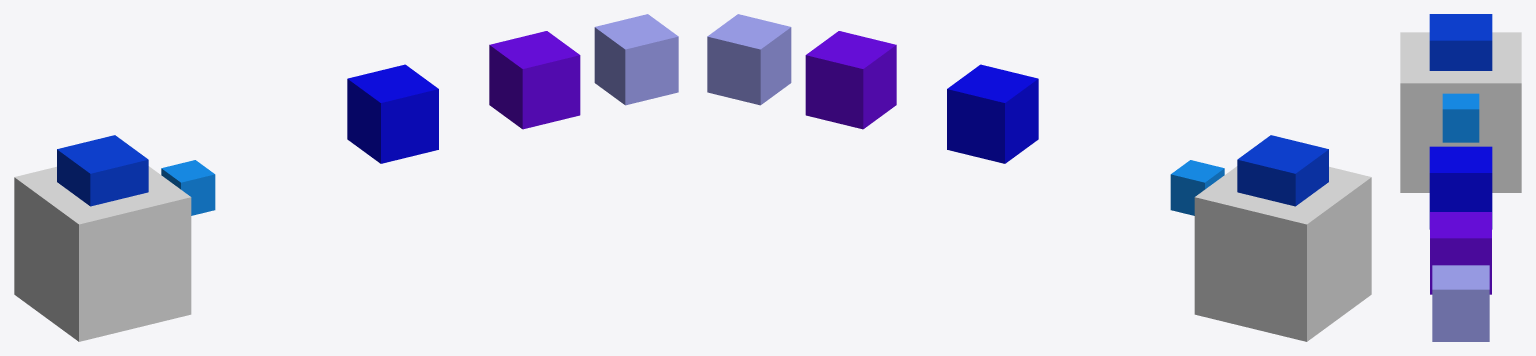
3 views of the same model, side by side, from view 1: azimuth 30°, elevation 25°; view 2: azimuth 150°, elevation 25°; view 3: azimuth 270°, elevation 25° (orthographic). The views are drawn at different scales.
Visible parts, largest first — view 1: Cube, Cube.003, Cube.004, Cube.005, Cube.001, Cube.002; view 2: Cube, Cube.003, Cube.004, Cube.005, Cube.001, Cube.002; view 3: Cube, Cube.005, Cube.003, Cube.001, Cube.004, Cube.002.
Part boxes in pixels (<box>): Cube: <box>14,166,191,341</box>; Cube.003: <box>347,64,438,163</box>; Cube.004: <box>489,31,580,129</box>; Cube.005: <box>594,14,678,105</box>; Cube.001: <box>57,135,148,206</box>; Cube.002: <box>161,160,215,215</box>; Cube: <box>1194,166,1371,341</box>; Cube.003: <box>947,64,1038,163</box>; Cube.004: <box>805,31,896,129</box>; Cube.005: <box>707,14,791,105</box>; Cube.001: <box>1237,135,1328,206</box>; Cube.002: <box>1170,160,1224,215</box>; Cube: <box>1400,32,1521,192</box>; Cube.005: <box>1432,265,1489,341</box>; Cube.003: <box>1429,146,1492,229</box>; Cube.001: <box>1429,14,1492,70</box>; Cube.004: <box>1430,212,1491,294</box>; Cube.002: <box>1442,93,1479,142</box>.
Size of the model in its own units: 10.99 by 2.56 by 2.
